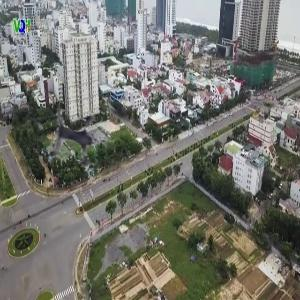drone: (38, 97, 121, 180)
